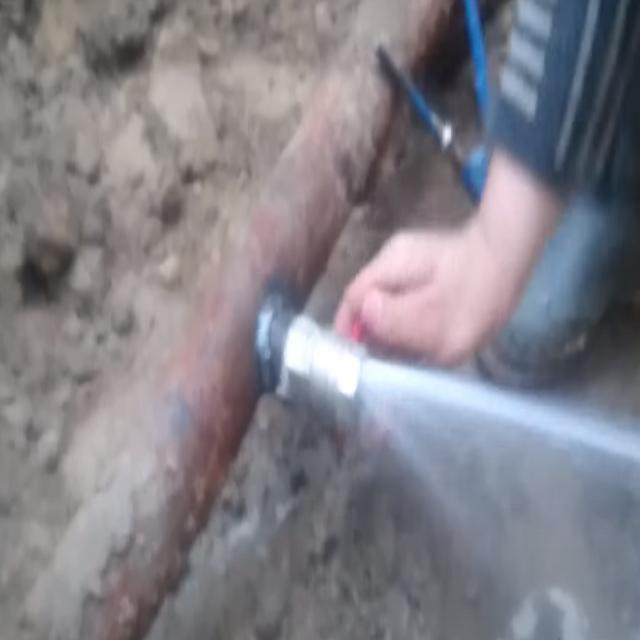leak: (279, 314, 640, 542)
